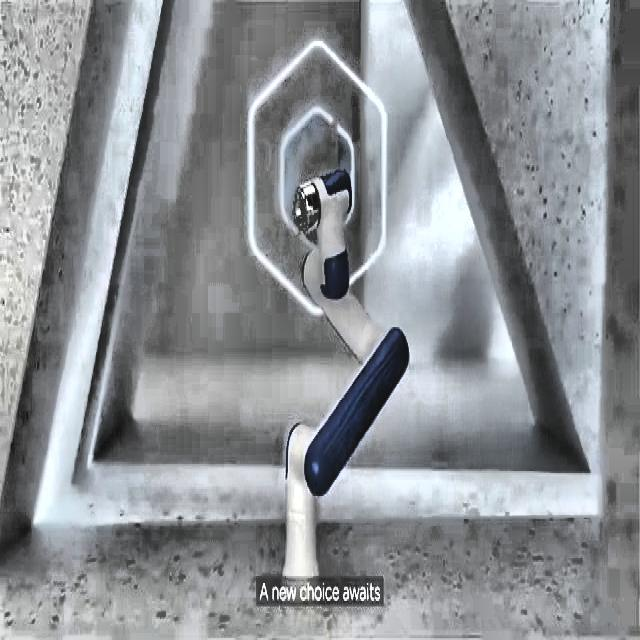robot: (246, 154, 410, 594)
